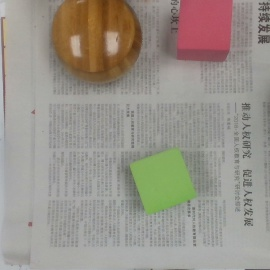chess: (54, 1, 140, 84)
